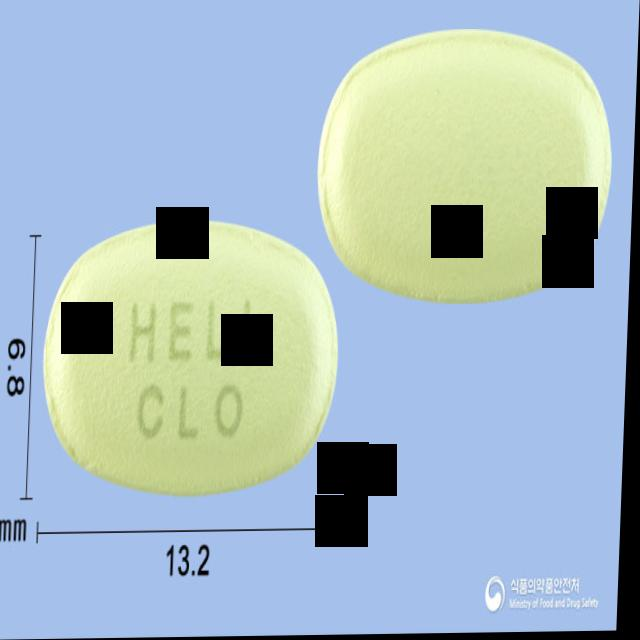Heliclo Tab: (314, 23, 619, 312), (43, 214, 348, 501)
